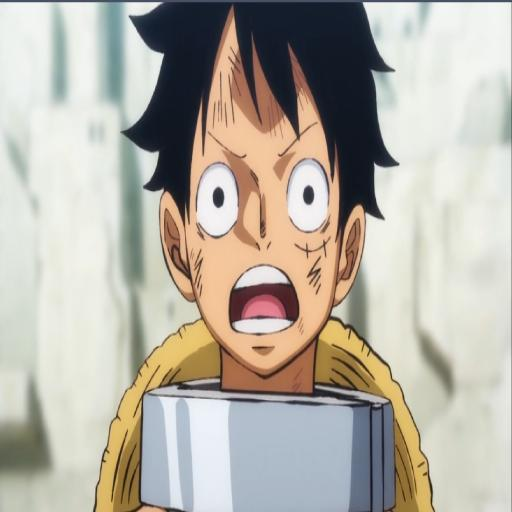Luffy: (111, 0, 430, 512)
